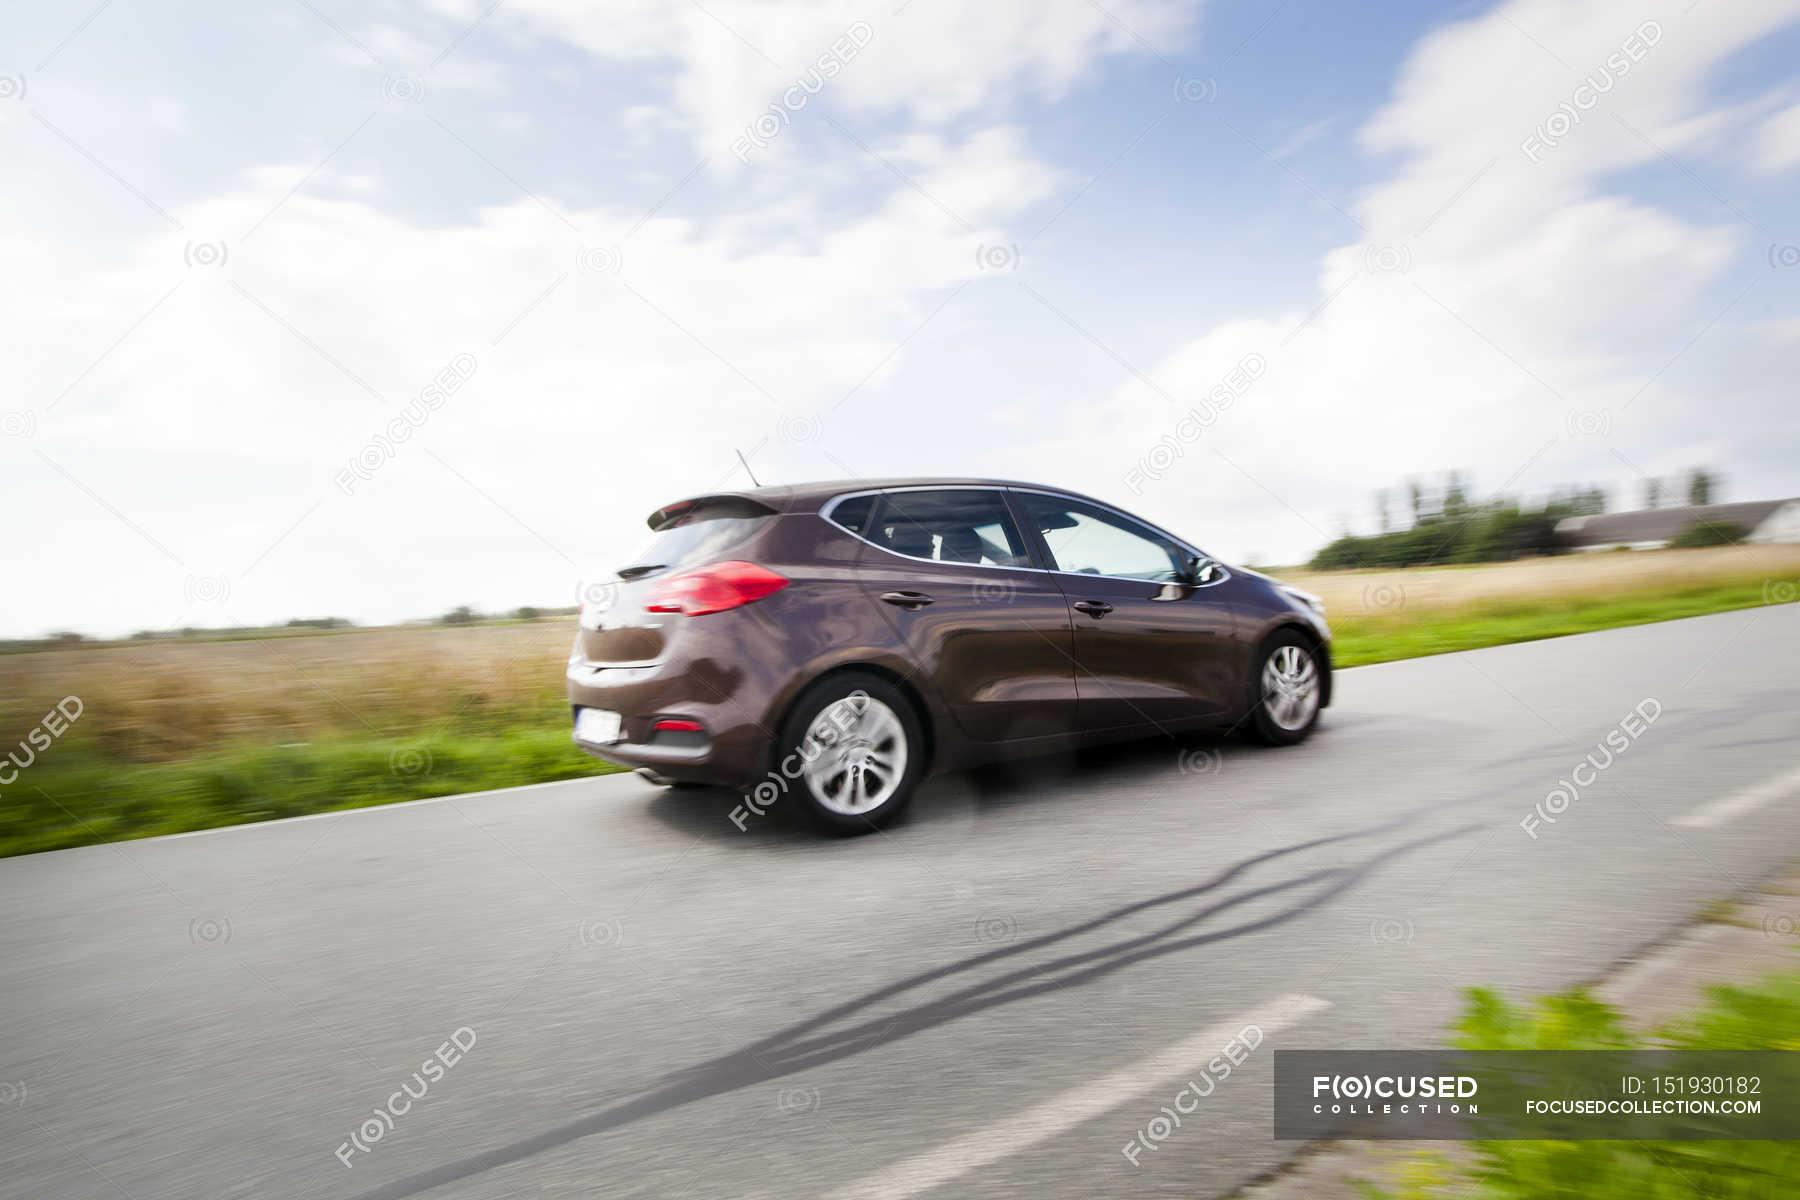car: (525, 423, 1418, 904)
